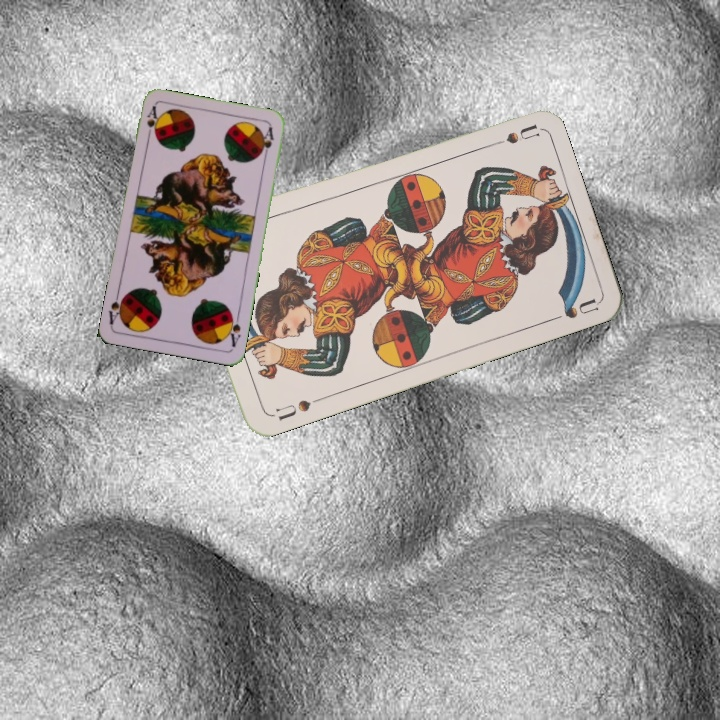SA: (223, 309, 243, 349), (143, 102, 161, 143)
SU: (481, 121, 540, 151), (271, 393, 324, 424)
